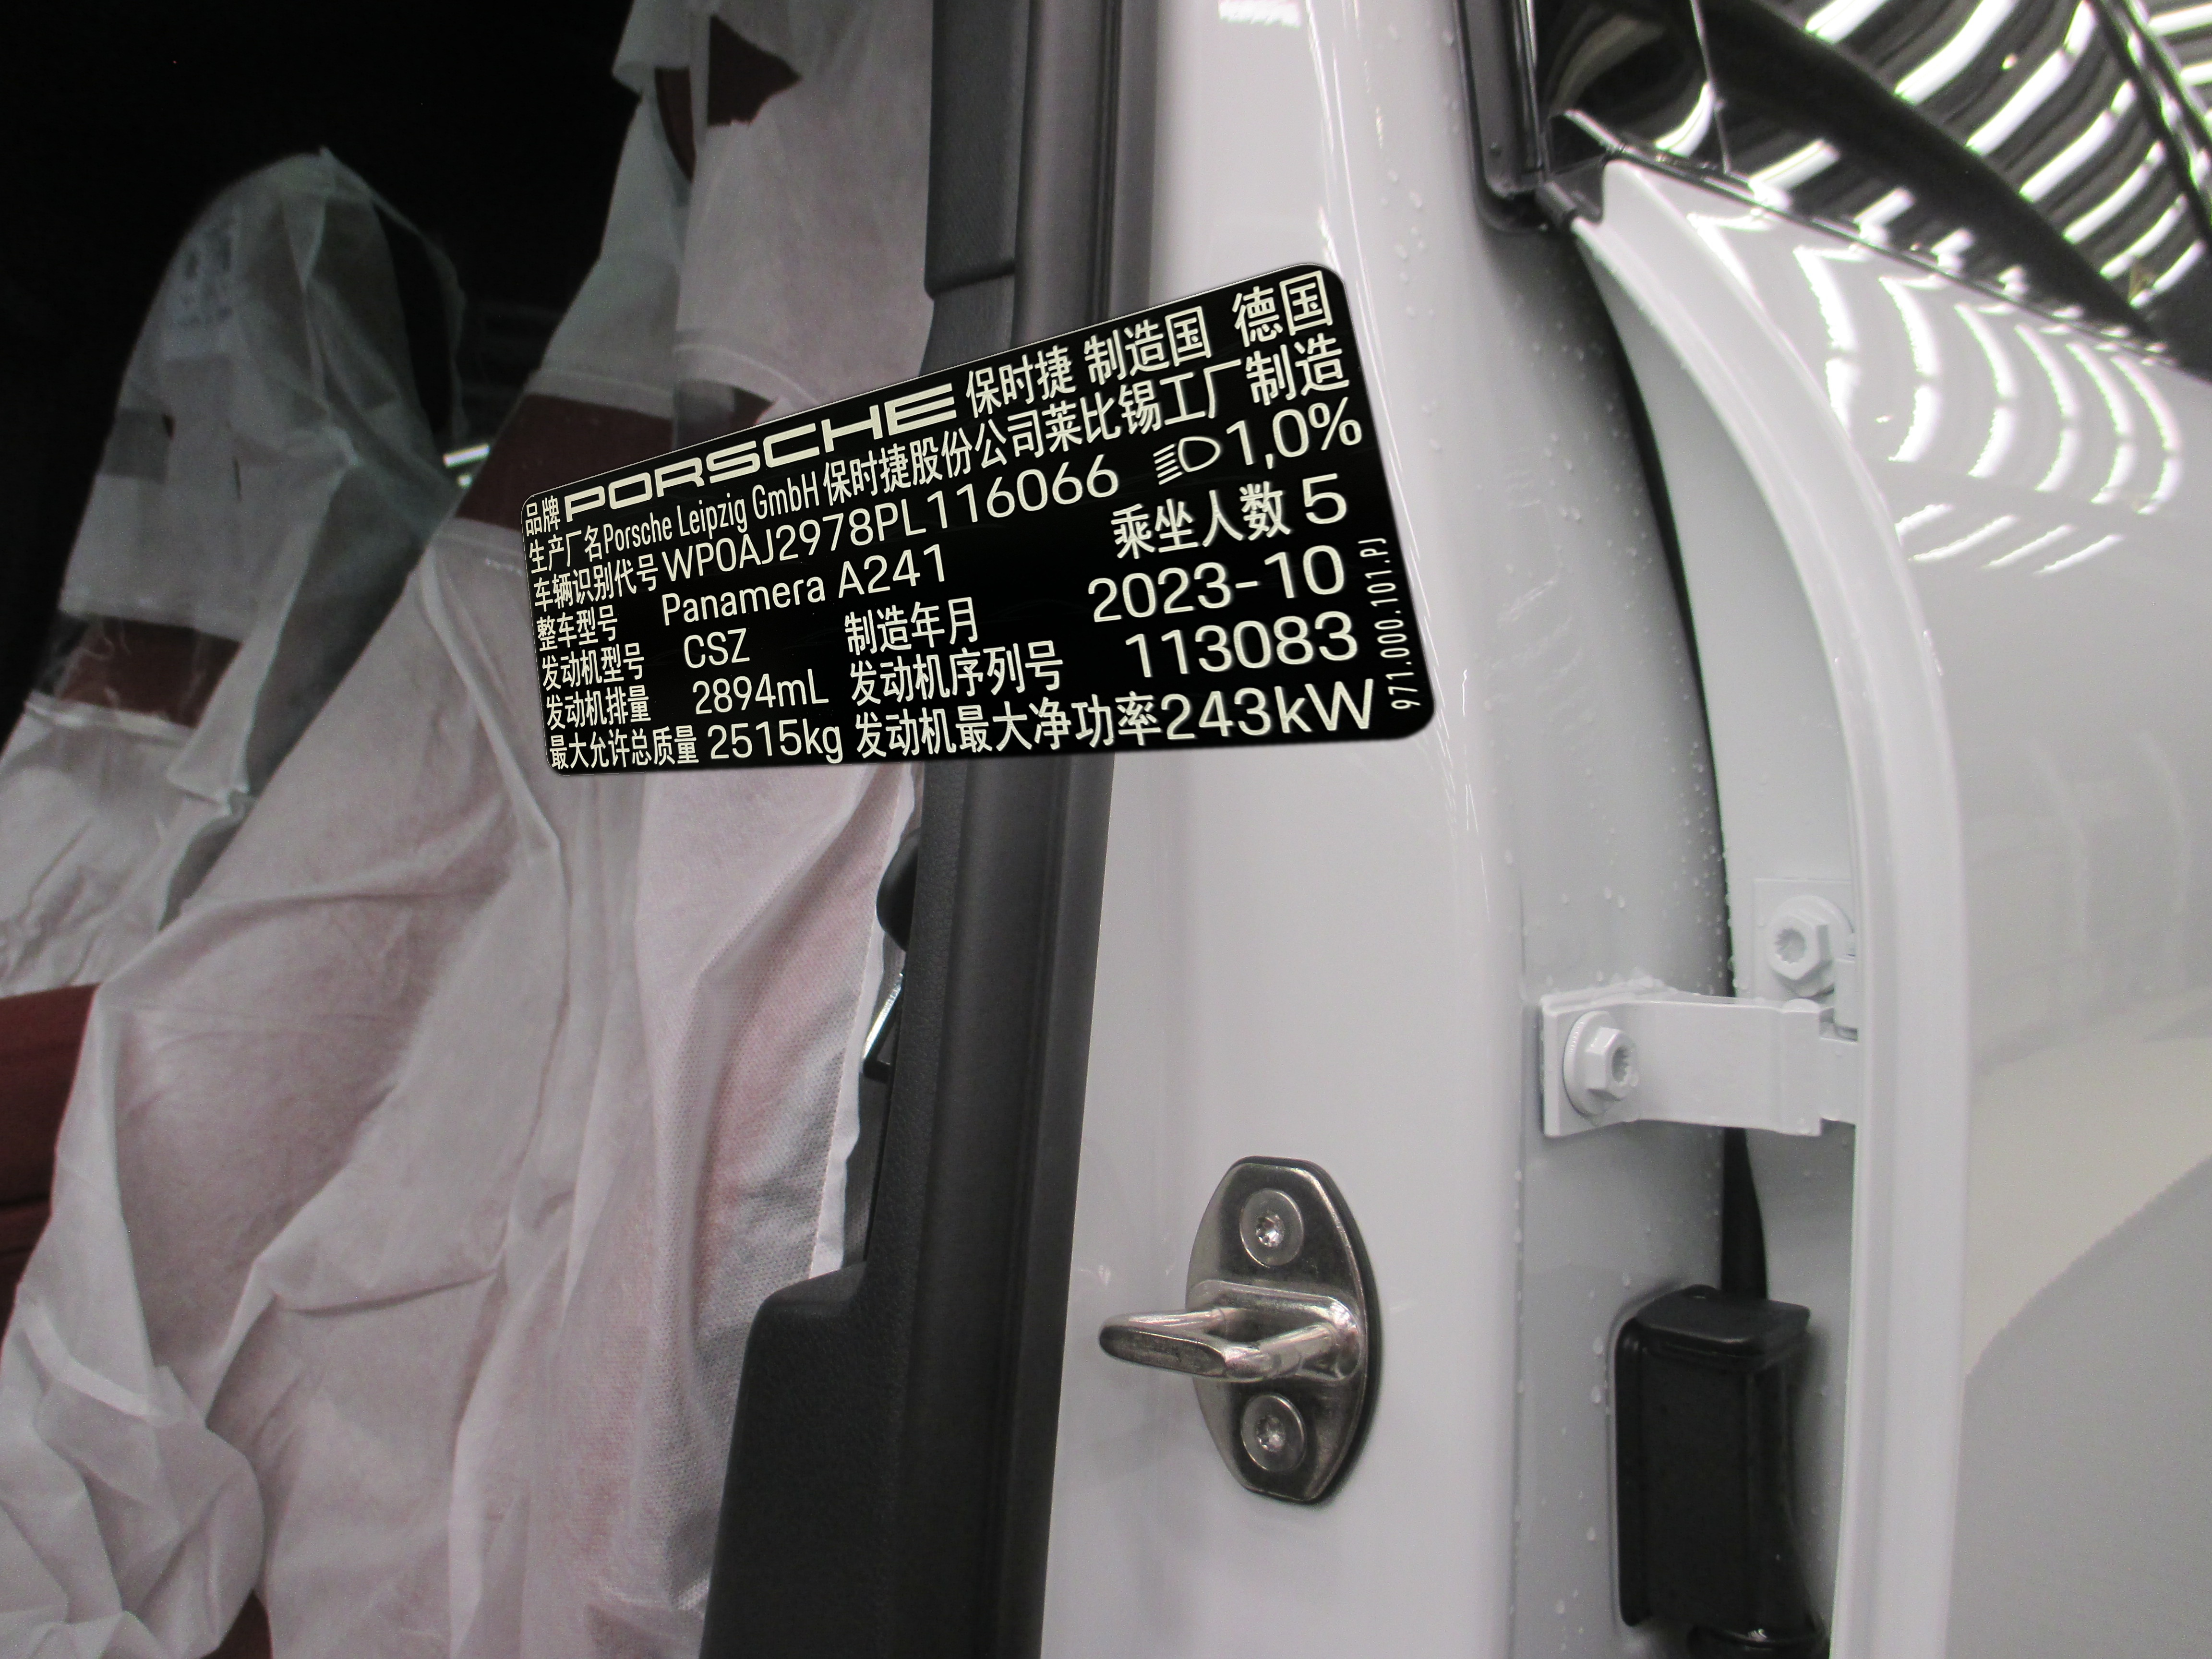Typlabel-China: (521, 263, 1435, 775)
